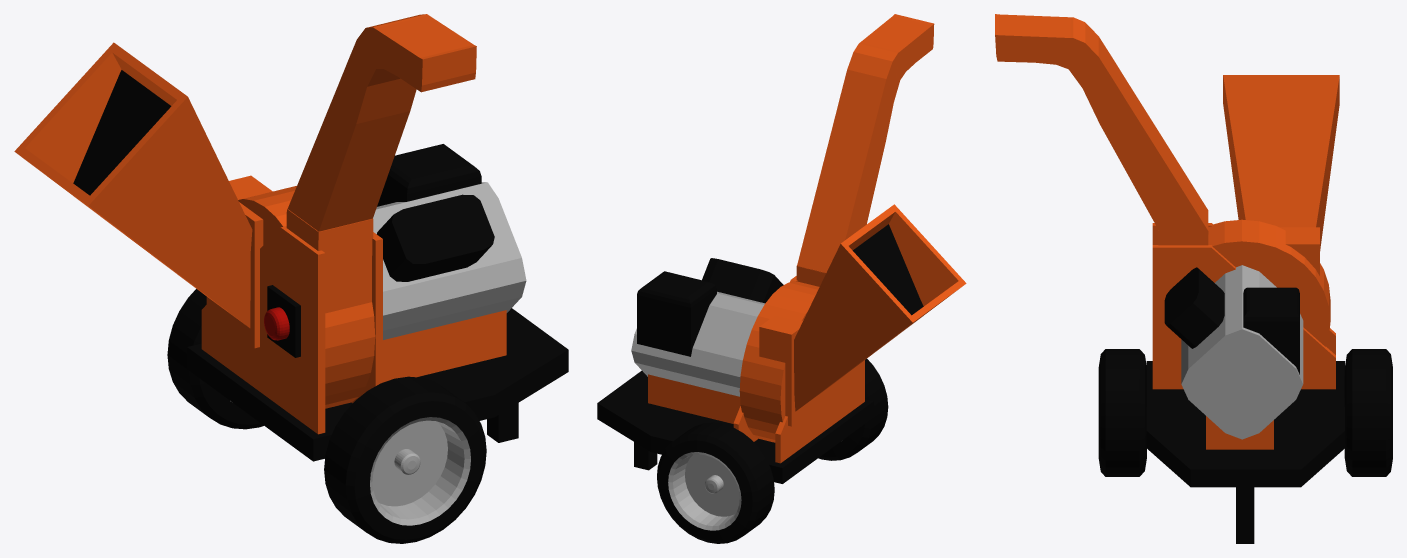
The model's file is chipper.fbx.
The picture shows the model from 3 angles, left to right: view 1: azimuth 30°, elevation 25°; view 2: azimuth 150°, elevation 25°; view 3: azimuth 270°, elevation 25°; orthographic projection. The views are drawn at different scales.
Visible parts, largest first — view 1: Chipper; view 2: Chipper; view 3: Chipper.
Part boxes in pixels (<box>): Chipper: <box>14,14,568,543</box>; Chipper: <box>597,14,966,543</box>; Chipper: <box>995,14,1392,543</box>.
Size of the model in its own units: 760 by 872 by 724.
